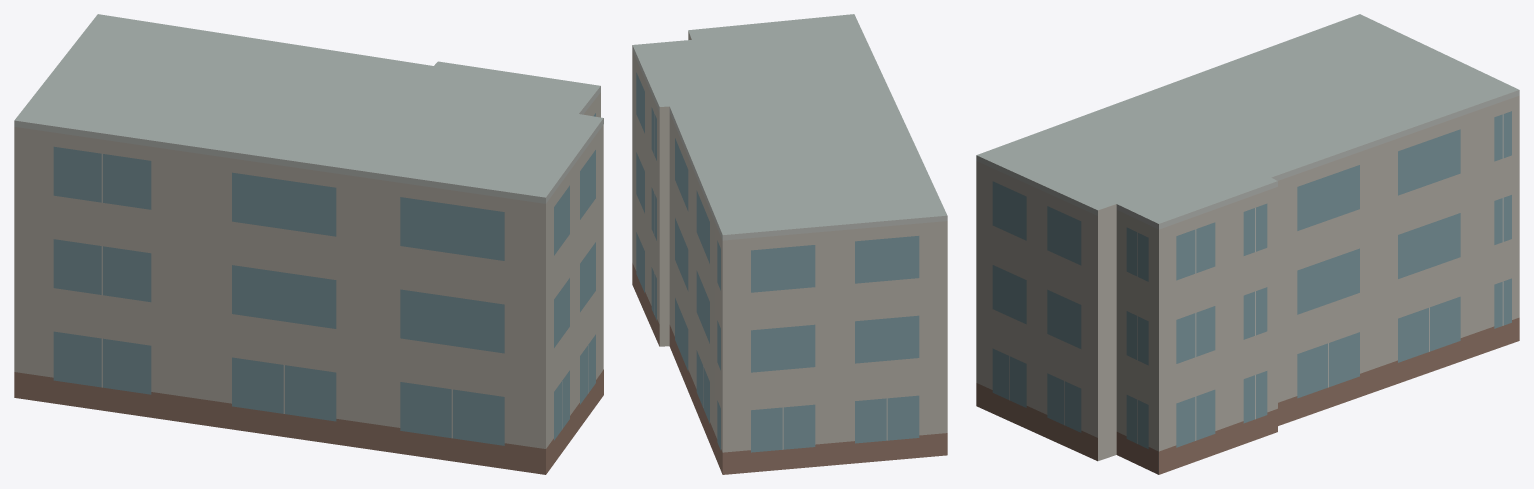
File: survey-upis-32586795.glb
The picture shows the model from 3 angles, left to right: view 1: azimuth 30°, elevation 25°; view 2: azimuth 150°, elevation 25°; view 3: azimuth 270°, elevation 25°; orthographic projection. The views are drawn at different scales.
Parts seen in each view (by area): view 1: survey-upis-32586795.tmp; view 2: survey-upis-32586795.tmp; view 3: survey-upis-32586795.tmp.
Boxes of the visible parts, x1,y1,x2,y2 form: survey-upis-32586795.tmp: [14, 14, 603, 474]; survey-upis-32586795.tmp: [632, 14, 947, 474]; survey-upis-32586795.tmp: [976, 14, 1519, 474].
Size of the model in its own units: 19.39 by 10.8 by 21.2.
